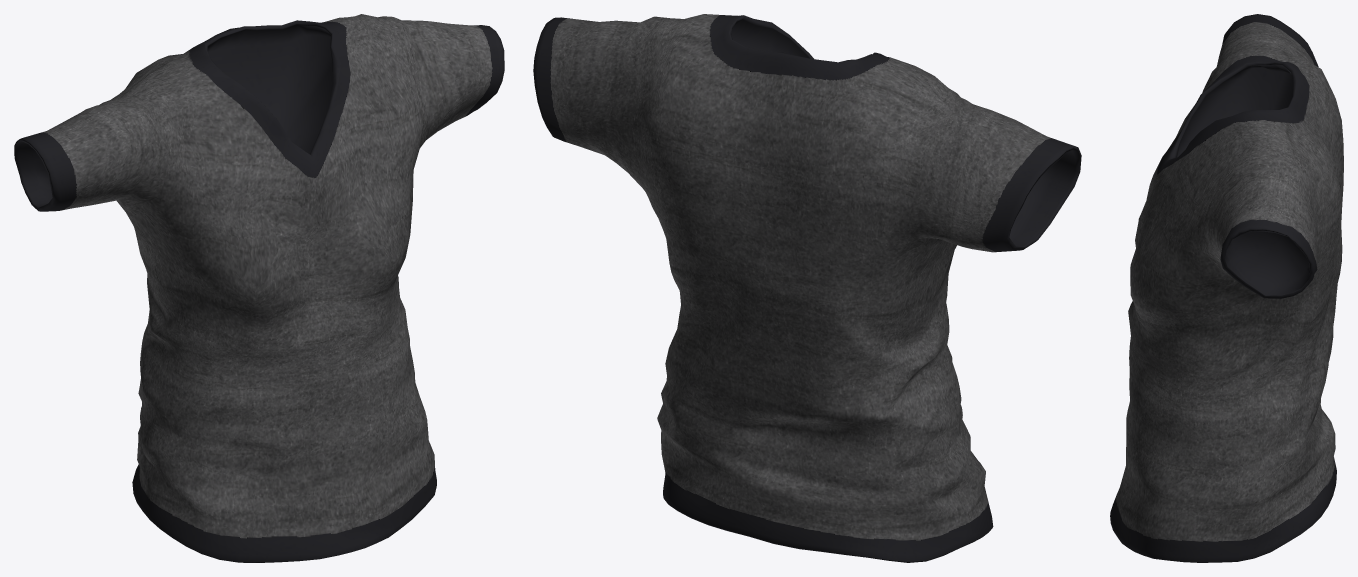
3 views of the same model, side by side, from view 1: azimuth 30°, elevation 25°; view 2: azimuth 150°, elevation 25°; view 3: azimuth 270°, elevation 25° (orthographic). The views are drawn at different scales.
Parts seen in each view (by area): view 1: Tops; view 2: Tops; view 3: Tops.
Part boxes in pixels (x1,y1,x2,y2): Tops: (14, 14, 504, 562); Tops: (533, 14, 1081, 562); Tops: (1110, 14, 1343, 562).
Bounding box in the file's own units: 0.6847 × 0.6477 × 0.3136.
Materials: 1 (1 with a texture image).
